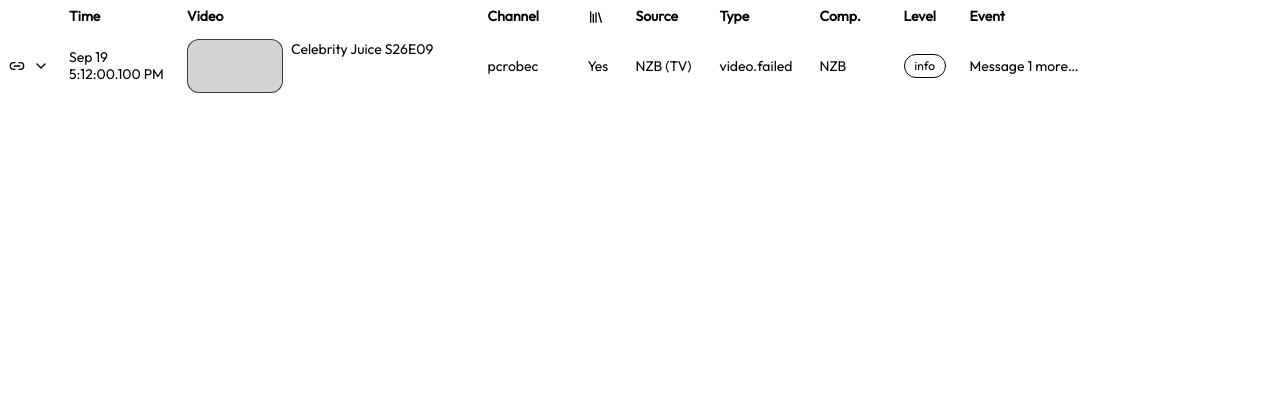
it: EventLogTable › desktop table › more on a short message opens the row, same as a long one
Click the button "more…" at [1057, 66], box [1035,56,1078,76]
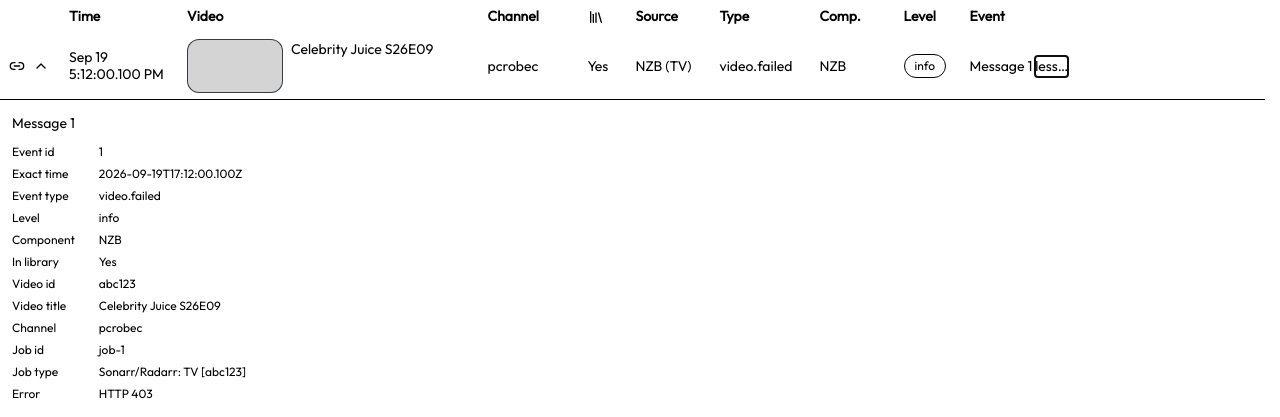
Result: the element with test id "event-detail" shows "HTTP 403" at [99,386,153,401]
